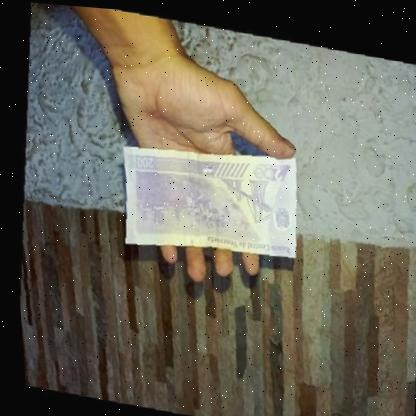two_hundred-back-vef: (113, 131, 300, 262)
